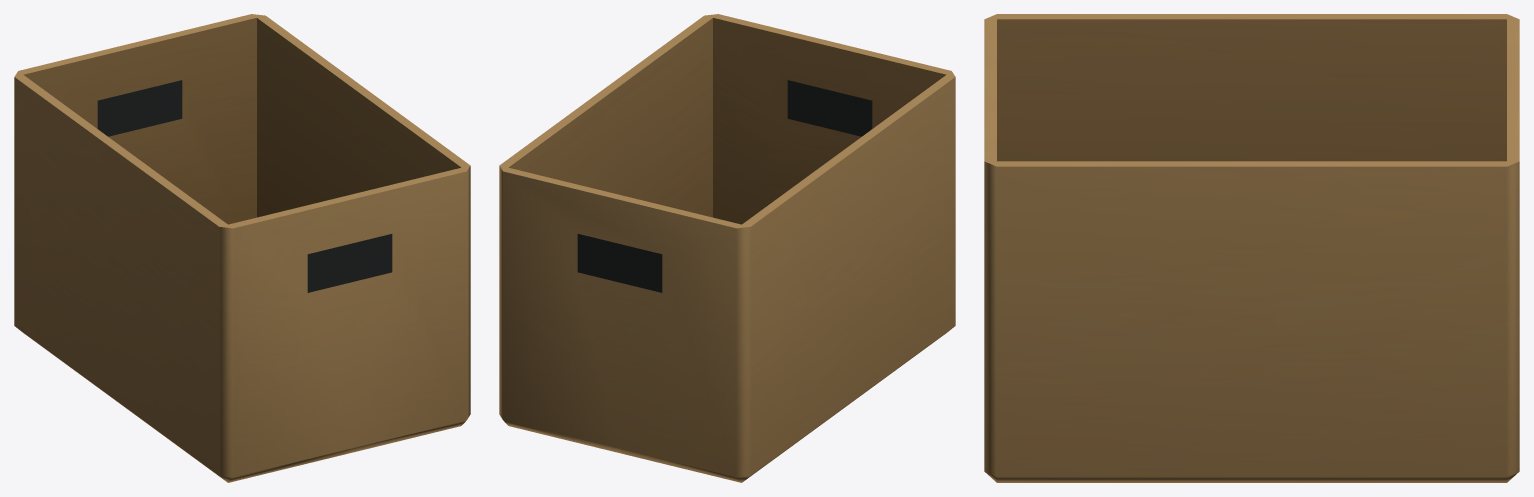
Rendered from box_cardboard_large_rectangle_open_handle.fbx.
3 renders of one model, left to right at view 1: azimuth 30°, elevation 25°; view 2: azimuth 150°, elevation 25°; view 3: azimuth 270°, elevation 25°, orthographic. The views are drawn at different scales.
Visible parts, largest first — view 1: box_cardboard_large_rectangle_open_handle; view 2: box_cardboard_large_rectangle_open_handle; view 3: box_cardboard_large_rectangle_open_handle.
Part boxes in pixels (x1,y1,x2,y2): box_cardboard_large_rectangle_open_handle: [14, 14, 470, 482]; box_cardboard_large_rectangle_open_handle: [499, 14, 955, 482]; box_cardboard_large_rectangle_open_handle: [984, 14, 1519, 482].
Bounding box in the file's own units: 104 × 102 × 154.
